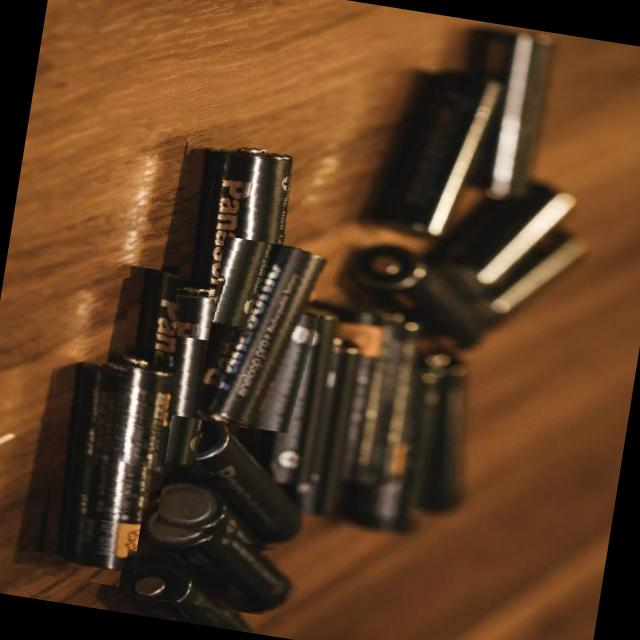Hazard: (19, 340, 170, 590), (156, 125, 310, 352), (97, 266, 242, 487), (194, 236, 336, 446), (129, 486, 312, 621), (152, 416, 326, 556), (114, 548, 284, 634)
